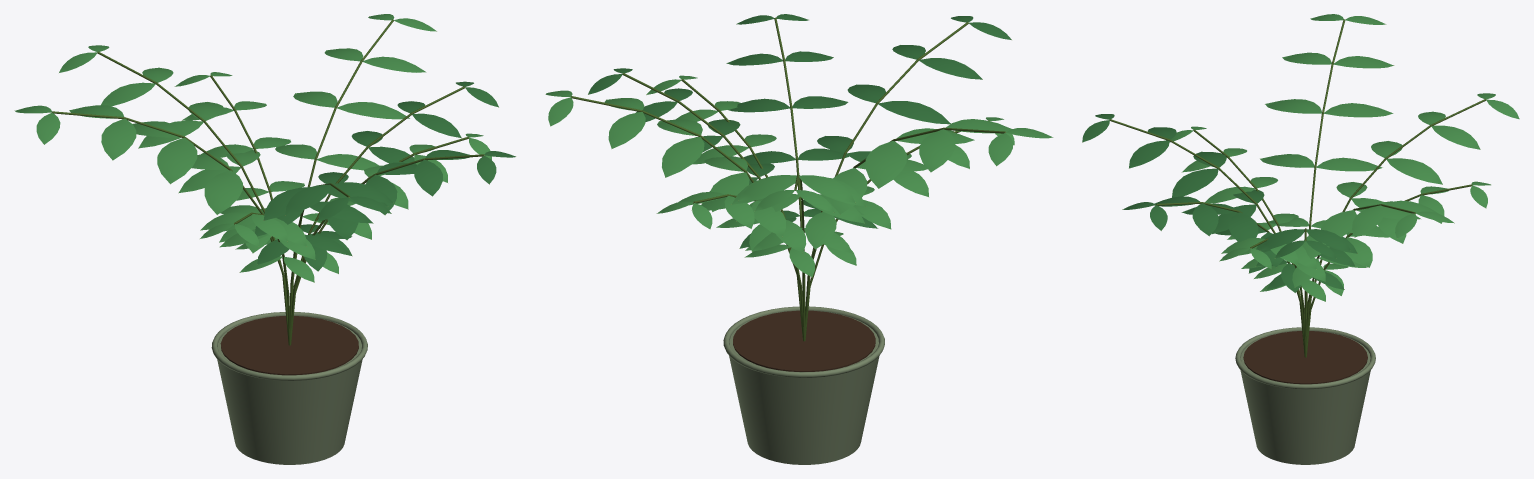
Rendered from front-palm.glb.
3 views of the same model, side by side, from view 1: azimuth 30°, elevation 25°; view 2: azimuth 150°, elevation 25°; view 3: azimuth 270°, elevation 25° (orthographic). The views are drawn at different scales.
Parts seen in each view (by area): view 1: part::front-palm/thrown-ceramic-planter-001, part::front-palm/dark-potting-mix-001, part::front-palm/planter-rounded-lip-001, part::front-palm/palm-leaflet-045, part::front-palm/palm-leaflet-043, part::front-palm/palm-leaflet-047, part::front-palm/palm-leaflet-056, part::front-palm/palm-leaflet-068, part::front-palm/palm-leaflet-038, part::front-palm/palm-leaflet-077, part::front-palm/palm-leaflet-067, part::front-palm/palm-leaflet-054 (+11 smaller); view 2: part::front-palm/thrown-ceramic-planter-001, part::front-palm/dark-potting-mix-001, part::front-palm/planter-rounded-lip-001, part::front-palm/palm-leaflet-046, part::front-palm/palm-leaflet-055, part::front-palm/palm-leaflet-048, part::front-palm/palm-leaflet-066, part::front-palm/palm-leaflet-057, part::front-palm/palm-leaflet-042, part::front-palm/palm-leaflet-077, part::front-palm/palm-leaflet-078, part::front-palm/palm-leaflet-044 (+12 smaller); view 3: part::front-palm/thrown-ceramic-planter-001, part::front-palm/dark-potting-mix-001, part::front-palm/planter-rounded-lip-001, part::front-palm/palm-leaflet-065, part::front-palm/palm-leaflet-076, part::front-palm/palm-leaflet-046, part::front-palm/palm-leaflet-035, part::front-palm/palm-leaflet-058, part::front-palm/palm-leaflet-044, part::front-palm/palm-leaflet-045, part::front-palm/palm-leaflet-067, part::front-palm/palm-leaflet-056 (+9 smaller).
Boxes of the visible parts, bbox=[...] form: part::front-palm/thrown-ceramic-planter-001: bbox=[217, 318, 362, 464]; part::front-palm/dark-potting-mix-001: bbox=[220, 316, 358, 375]; part::front-palm/planter-rounded-lip-001: bbox=[211, 312, 367, 380]; part::front-palm/palm-leaflet-045: bbox=[157, 138, 197, 183]; part::front-palm/palm-leaflet-043: bbox=[204, 170, 242, 214]; part::front-palm/palm-leaflet-047: bbox=[101, 118, 136, 160]; part::front-palm/palm-leaflet-056: bbox=[337, 102, 409, 119]; part::front-palm/palm-leaflet-068: bbox=[285, 184, 330, 215]; part::front-palm/palm-leaflet-038: bbox=[414, 159, 442, 196]; part::front-palm/palm-leaflet-077: bbox=[101, 82, 155, 106]; part::front-palm/palm-leaflet-067: bbox=[333, 182, 393, 203]; part::front-palm/palm-leaflet-054: bbox=[317, 154, 379, 170]; part::front-palm/thrown-ceramic-planter-001: bbox=[729, 312, 879, 464]; part::front-palm/dark-potting-mix-001: bbox=[733, 310, 875, 371]; part::front-palm/planter-rounded-lip-001: bbox=[723, 306, 884, 377]; part::front-palm/palm-leaflet-046: bbox=[865, 141, 906, 188]; part::front-palm/palm-leaflet-055: bbox=[662, 137, 704, 177]; part::front-palm/palm-leaflet-048: bbox=[919, 129, 955, 172]; part::front-palm/palm-leaflet-066: bbox=[878, 101, 950, 124]; part::front-palm/palm-leaflet-057: bbox=[608, 112, 645, 148]; part::front-palm/palm-leaflet-042: bbox=[805, 212, 836, 249]; part::front-palm/palm-leaflet-077: bbox=[799, 175, 854, 202]; part::front-palm/palm-leaflet-078: bbox=[738, 175, 796, 200]; part::front-palm/palm-leaflet-044: bbox=[828, 168, 867, 213]; part::front-palm/thrown-ceramic-planter-001: bbox=[1240, 332, 1370, 464]; part::front-palm/dark-potting-mix-001: bbox=[1243, 331, 1367, 384]; part::front-palm/planter-rounded-lip-001: bbox=[1235, 327, 1375, 389]; part::front-palm/palm-leaflet-065: bbox=[1172, 168, 1218, 197]; part::front-palm/palm-leaflet-076: bbox=[1386, 158, 1442, 184]; part::front-palm/palm-leaflet-046: bbox=[1324, 103, 1393, 117]; part::front-palm/palm-leaflet-035: bbox=[1228, 212, 1258, 242]; part::front-palm/palm-leaflet-058: bbox=[1352, 205, 1384, 237]; part::front-palm/palm-leaflet-044: bbox=[1316, 157, 1382, 171]; part::front-palm/palm-leaflet-045: bbox=[1265, 99, 1321, 113]; part::front-palm/palm-leaflet-067: bbox=[1129, 140, 1169, 168]; part::front-palm/palm-leaflet-056: bbox=[1321, 210, 1356, 244].
Size of the model in its own units: 1.69 by 1.35 by 1.62.
